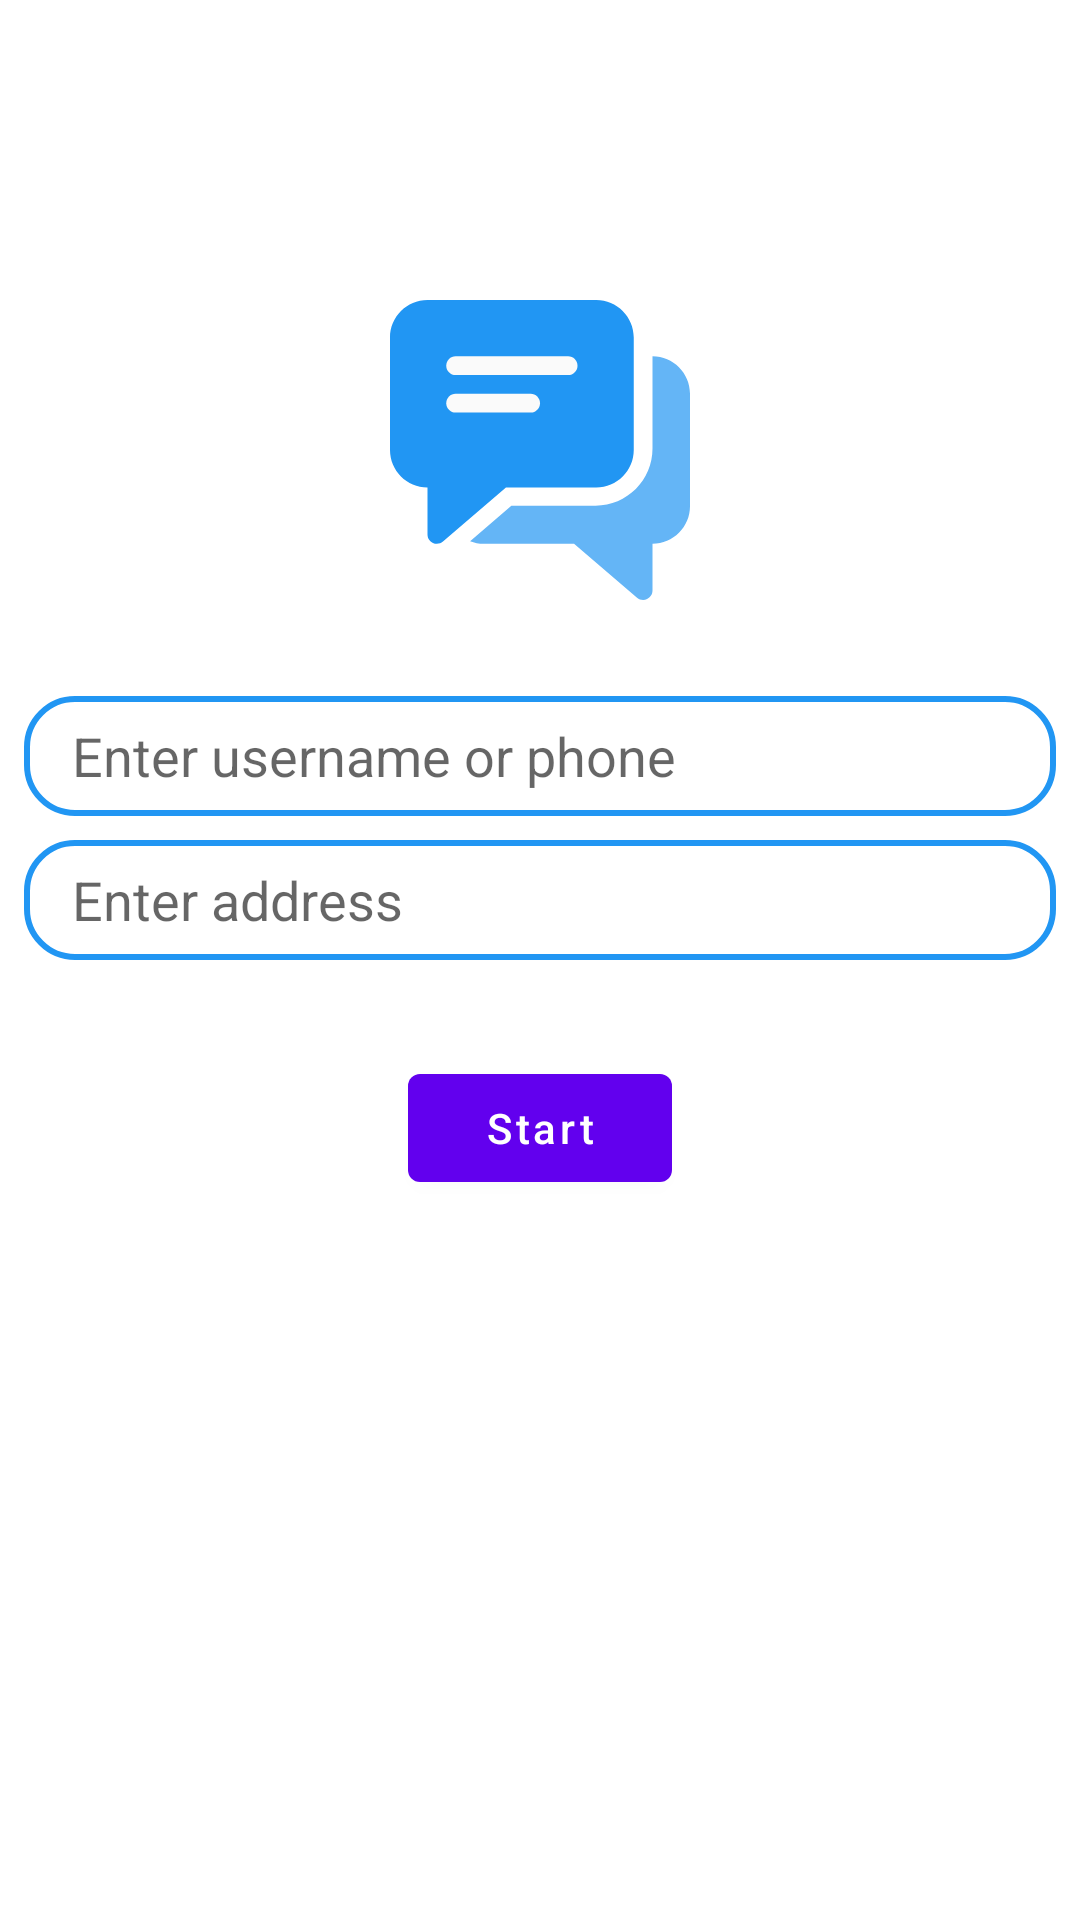

Where icons sit on this 1080px x 1920px app screen, as (x1, y1, x2, y2):
chat: (390, 300, 690, 600)
